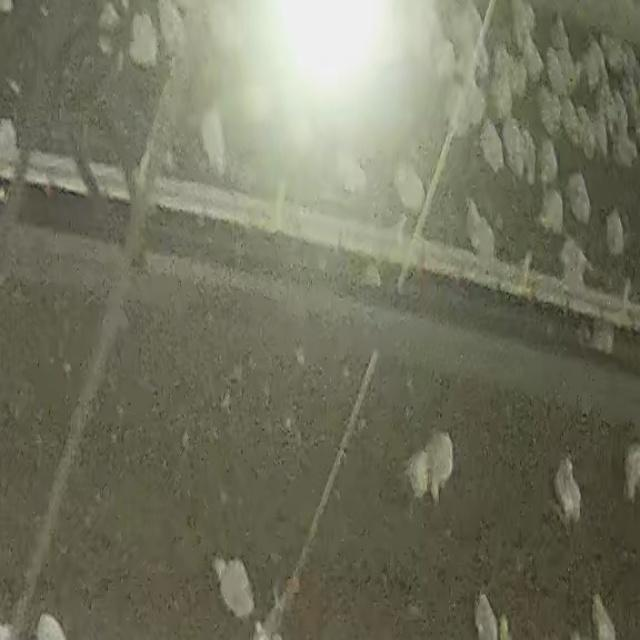chicken: (402, 432, 456, 509), (208, 549, 258, 620), (461, 194, 502, 264), (485, 52, 521, 121), (552, 454, 586, 524), (556, 236, 593, 295), (500, 118, 532, 180), (200, 108, 229, 176), (393, 160, 427, 212), (564, 170, 594, 223), (478, 120, 506, 176), (537, 185, 565, 234), (473, 591, 501, 640), (537, 134, 561, 190), (590, 594, 618, 640), (622, 446, 640, 503), (604, 210, 625, 256)
